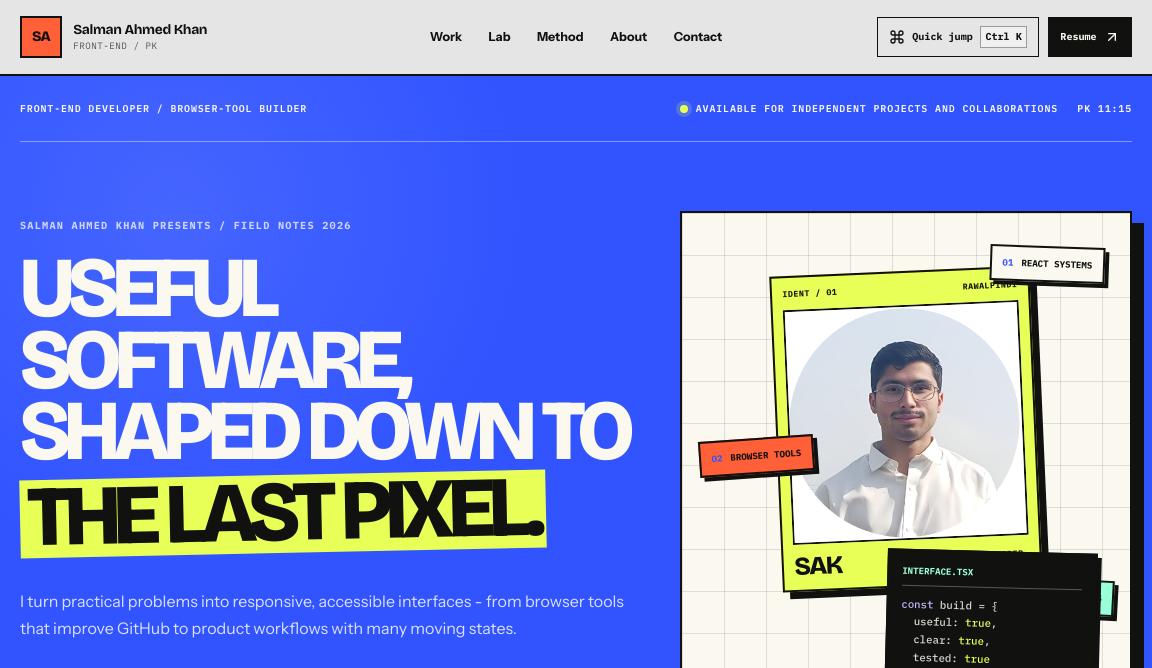
Test: opens, filters, and closes quick navigation
Click the button with aria-label "Open quick navigation": [958, 37] box [877,17,1039,57]
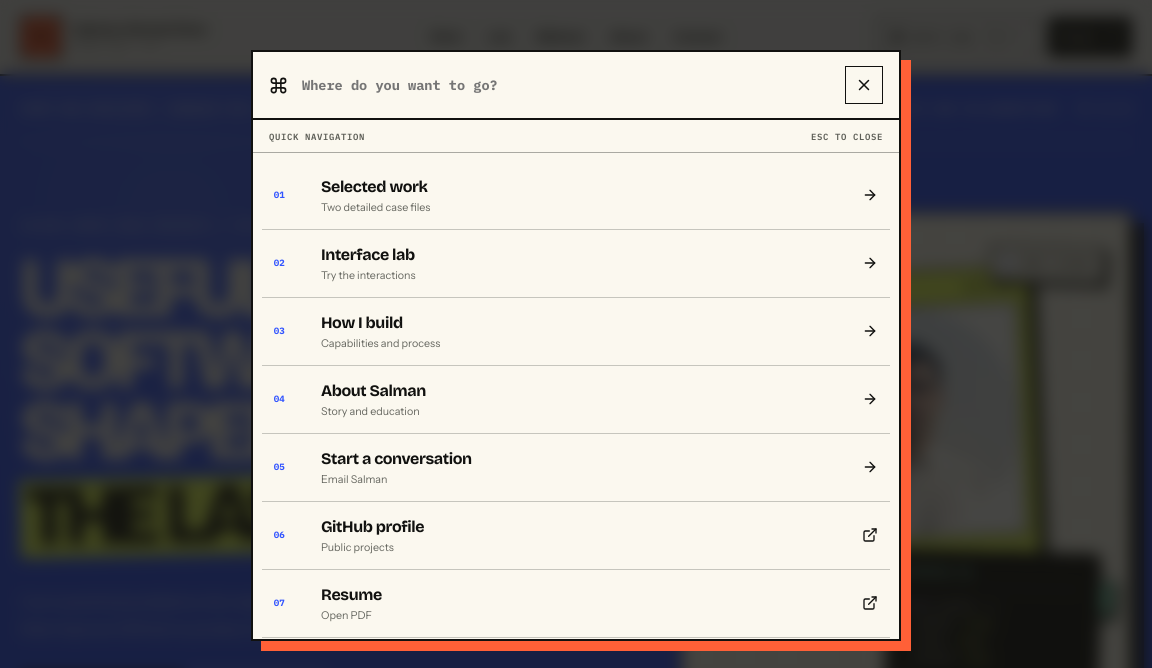
Now the dialog "Quick navigation" is shown, box [251,50,901,641]
In the field named "Search portfolio navigation": [566, 85] box [300,75,833,95], type "resume"
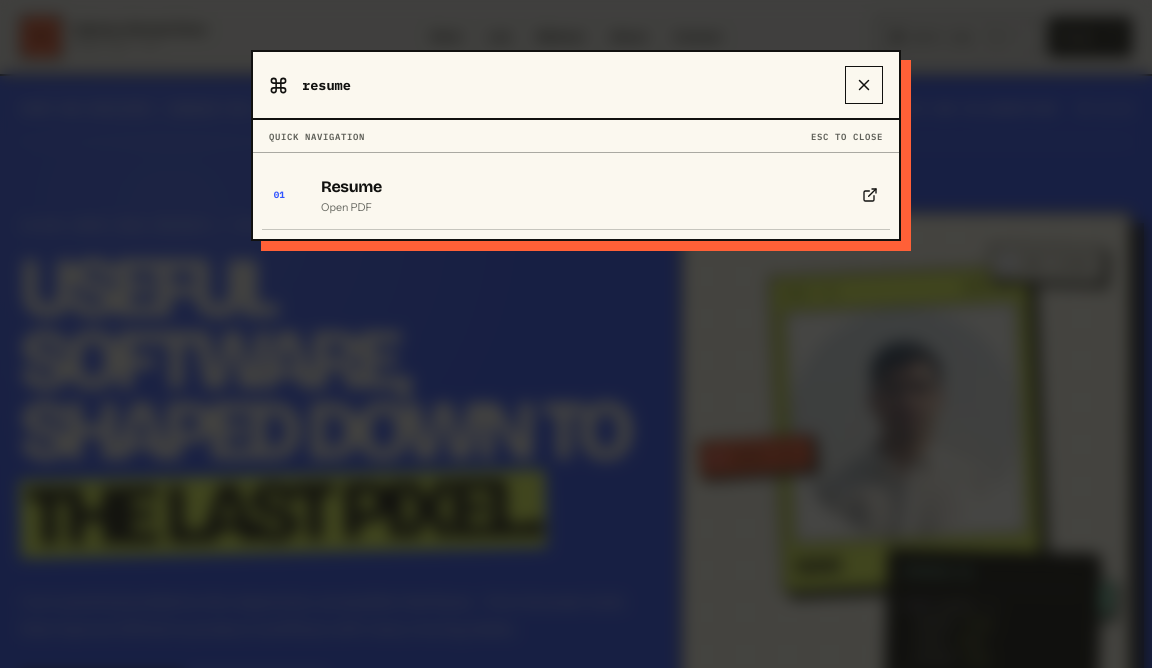
Expected: the link "selected work" is not shown
Now the link "01 Resume Open PDF" is shown, box [262,162,890,230]
Press Escape
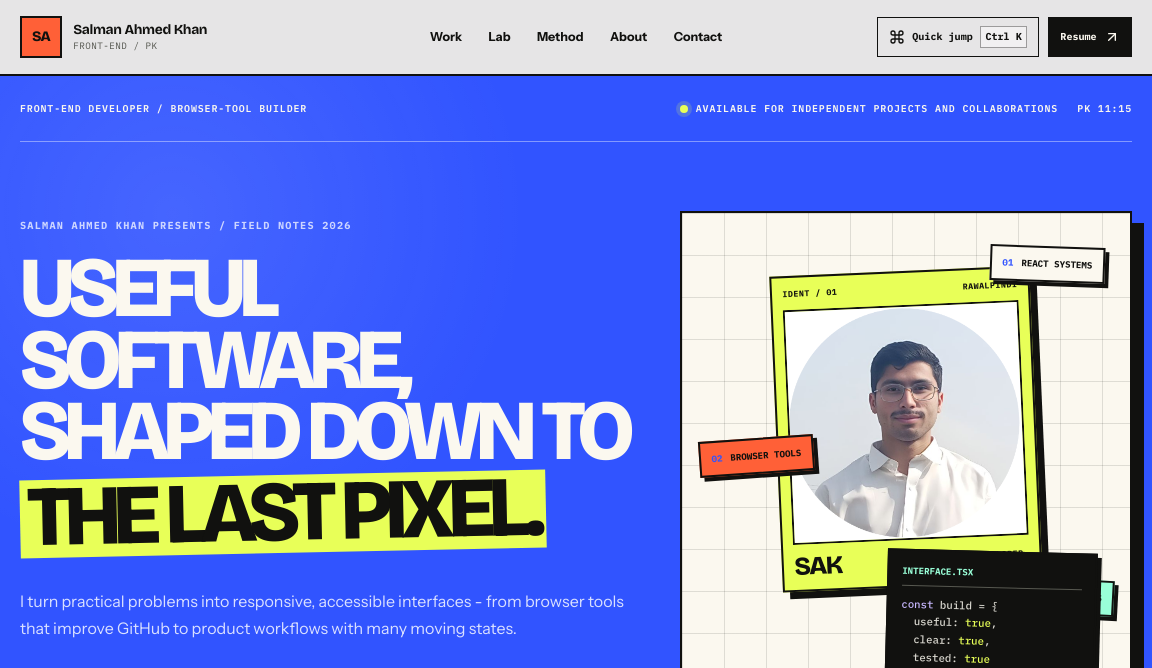
Now the text "Quick navigation" is gone
